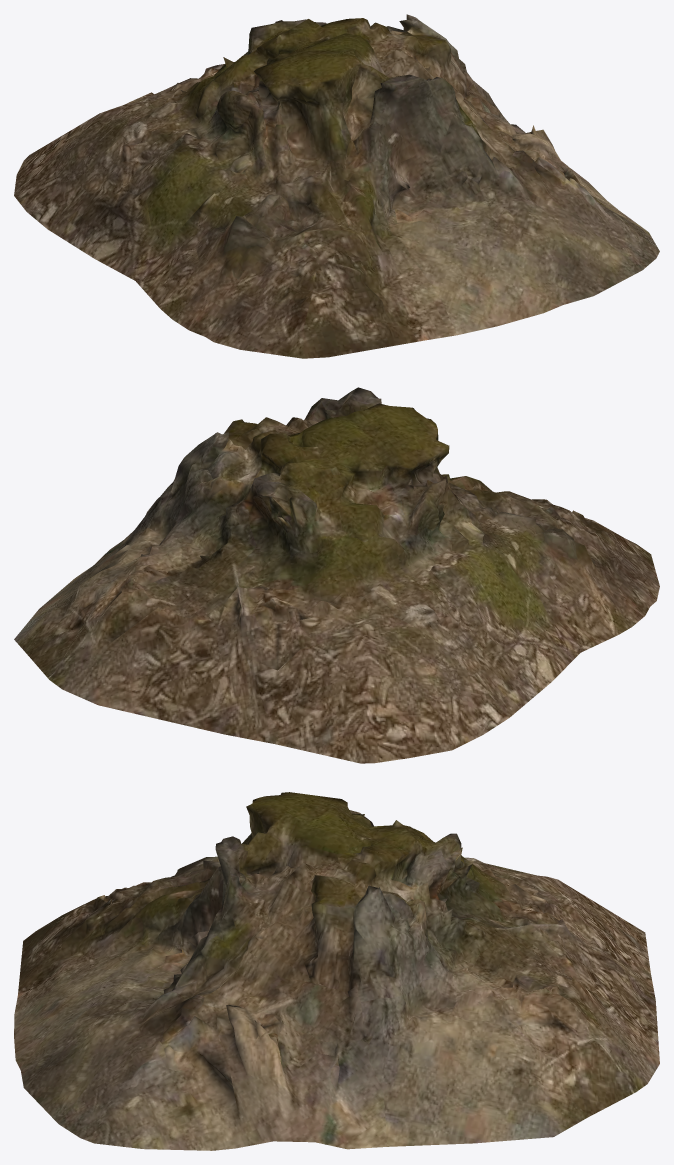
File: tree_stump_01.glb
The picture shows the model from 3 angles, top to bottom: view 1: azimuth 30°, elevation 25°; view 2: azimuth 150°, elevation 25°; view 3: azimuth 270°, elevation 25°; orthographic projection. The views are drawn at different scales.
Parts seen in each view (by area): view 1: tree_stump_01; view 2: tree_stump_01; view 3: tree_stump_01.
Part boxes in pixels (x1,y1,x2,y2): tree_stump_01: [14, 14, 659, 358]; tree_stump_01: [14, 387, 659, 763]; tree_stump_01: [14, 792, 659, 1150].
Bounding box in the file's own units: 1.43 × 0.571 × 1.59.
Materials: 1 (1 with a texture image).
